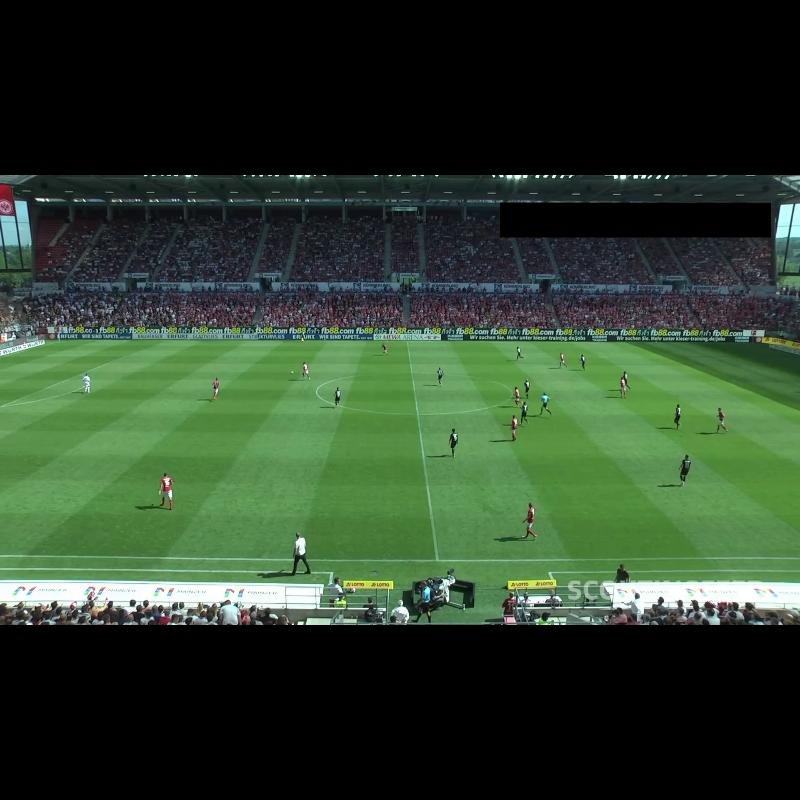cross_recipient_zone: (0, 354, 126, 407), (695, 355, 800, 397)
crossing_player_zone: (12, 341, 219, 355), (603, 345, 789, 358), (0, 435, 47, 463), (782, 435, 800, 446)
pitch: (0, 341, 800, 558)
